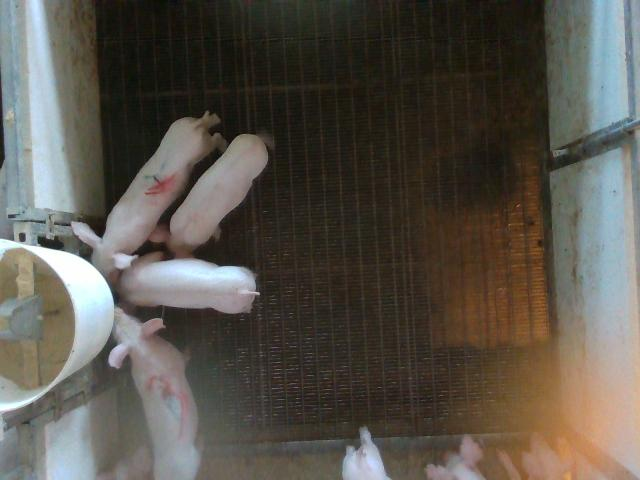pig-3: (109, 308, 200, 478)
pig-4: (72, 111, 225, 283)
